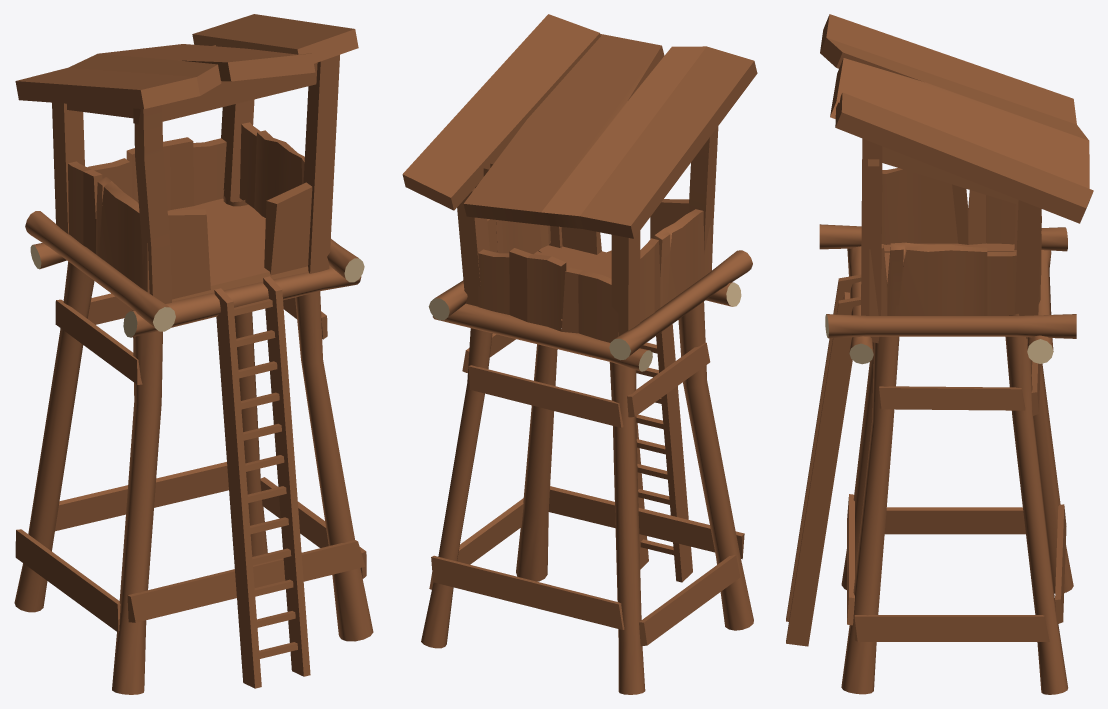
Rendered from watchtower.fbx.
The picture shows the model from 3 angles, left to right: view 1: azimuth 30°, elevation 25°; view 2: azimuth 150°, elevation 25°; view 3: azimuth 270°, elevation 25°; orthographic projection. The views are drawn at different scales.
Visible parts, largest first — view 1: pCylinder17, polySurface4, palisade_47, palisade_45, palisade_46, pCube103, pCube14, pCube5, pCube6, pPlane4, polySurface7, polySurface3 (+17 smaller); view 2: polySurface4, polySurface3, polySurface7, palisade_46, palisade_47, palisade_48, pCylinder17, palisade_45, pCube19, pCube103, palisade_49, pCube14 (+14 smaller); view 3: polySurface4, polySurface3, polySurface6, pCylinder17, palisade_45, pCube103, palisade_48, palisade_52, pCube16, pCube99, pCube100, pCube5 (+10 smaller).
Part boxes in pixels (<box>): pCylinder17: <box>214,276,310,688</box>; polySurface4: <box>15,44,315,108</box>; palisade_47: <box>112,310,162,694</box>; palisade_45: <box>295,291,373,641</box>; palisade_46: <box>14,261,94,612</box>; pCube103: <box>68,161,149,293</box>; pCube14: <box>127,540,365,622</box>; pCube5: <box>303,55,339,273</box>; pCube6: <box>134,105,171,303</box>; pPlane4: <box>169,198,330,301</box>; polySurface7: <box>87,137,226,210</box>; polySurface3: <box>192,14,358,63</box>; polySurface4: <box>463,34,757,238</box>; polySurface3: <box>402,14,600,210</box>; polySurface7: <box>478,248,618,342</box>; palisade_46: <box>609,362,645,694</box>; palisade_47: <box>678,301,753,630</box>; palisade_48: <box>421,328,492,648</box>; pCylinder17: <box>607,250,692,582</box>; palisade_45: <box>516,247,561,581</box>; pCube19: <box>431,555,624,629</box>; pCube103: <box>640,209,710,321</box>; palisade_49: <box>432,303,652,371</box>; pCube14: <box>548,486,744,559</box>; polySurface4: <box>820,14,1089,188</box>; polySurface3: <box>835,92,1093,223</box>; polySurface6: <box>869,242,1016,315</box>; pCylinder17: <box>786,274,861,646</box>; palisade_45: <box>841,336,899,694</box>; pCube103: <box>881,168,1015,244</box>; palisade_48: <box>1005,313,1068,694</box>; palisade_52: <box>825,314,1076,338</box>; pCube16: <box>854,615,1049,641</box>; pCube99: <box>884,507,1025,534</box>; pCube100: <box>879,386,1025,410</box>; pCube5: <box>861,138,882,343</box>.
Size of the model in its own units: 302 by 677 by 329.
